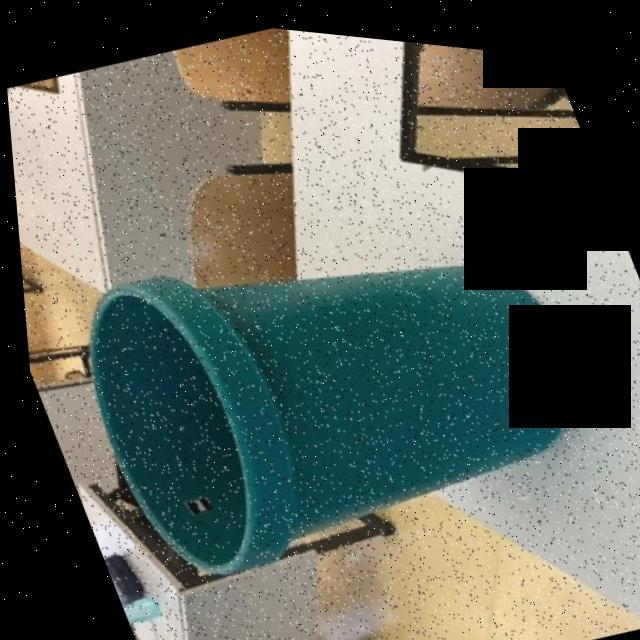bin: (20, 133, 640, 640)
